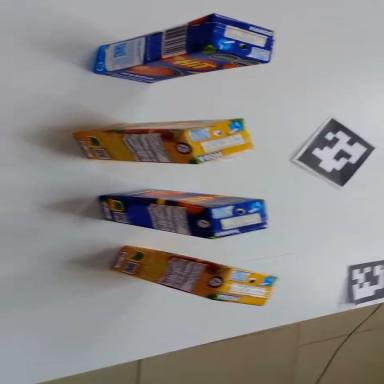HIT-MANGO: (88, 4, 279, 93), (95, 184, 269, 244)
HIT-MORA: (109, 240, 275, 312), (72, 118, 253, 168)
cara_F: (102, 40, 267, 91), (98, 183, 262, 214), (72, 119, 242, 134)
